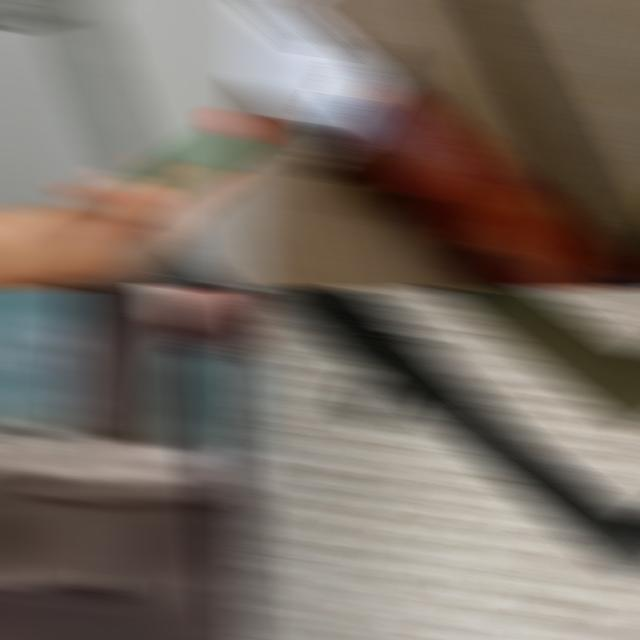Knife: (176, 309, 250, 637), (134, 108, 260, 197)
Knife_Handle: (153, 286, 260, 635)
